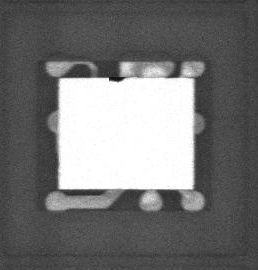DIE_BROKEN: (108, 74, 128, 82)
